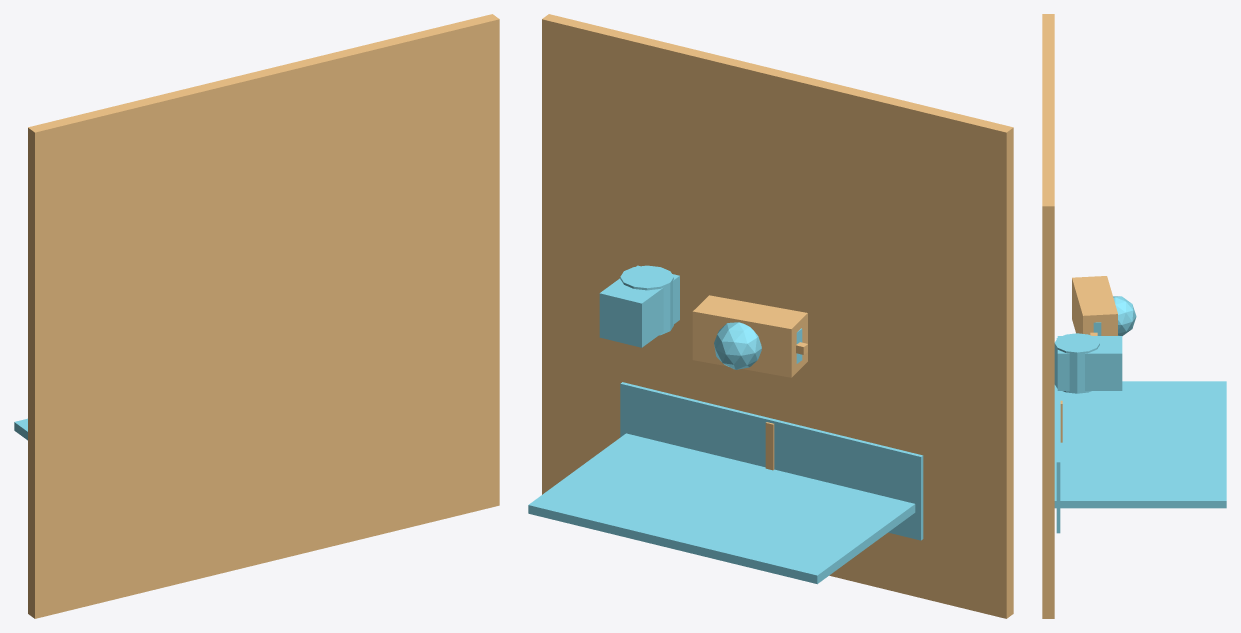
Rendered from rally-legends-kit.glb.
3 views of the same model, side by side, from view 1: azimuth 30°, elevation 25°; view 2: azimuth 150°, elevation 25°; view 3: azimuth 270°, elevation 25° (orthographic). The views are drawn at different scales.
Parts seen in each view (by area): view 1: ENVIRONMENT_GROUND; view 2: ENVIRONMENT_GROUND, ENVIRONMENT_GATE, PROFILE_ENVIRONMENT_DETAIL, PLAYER_BODY, PROFILE_OBSTACLE_DETAIL, PLAYER_CORE, OBSTACLE; view 3: ENVIRONMENT_GATE, ENVIRONMENT_GROUND, PROFILE_OBSTACLE_DETAIL, PLAYER_BODY, OBSTACLE, PROFILE_ENVIRONMENT_DETAIL, PLAYER_CORE.
Part boxes in pixels (bbox=[...]): ENVIRONMENT_GROUND: bbox=[28, 14, 499, 618]; ENVIRONMENT_GROUND: bbox=[542, 14, 1013, 618]; ENVIRONMENT_GATE: bbox=[528, 433, 915, 584]; PROFILE_ENVIRONMENT_DETAIL: bbox=[620, 382, 923, 540]; PLAYER_BODY: bbox=[692, 295, 807, 377]; PROFILE_OBSTACLE_DETAIL: bbox=[599, 265, 679, 347]; PLAYER_CORE: bbox=[714, 322, 761, 369]; OBSTACLE: bbox=[620, 265, 673, 335]; ENVIRONMENT_GATE: bbox=[1054, 381, 1226, 508]; ENVIRONMENT_GROUND: bbox=[1042, 14, 1054, 618]; PROFILE_OBSTACLE_DETAIL: bbox=[1057, 336, 1122, 390]; PLAYER_BODY: bbox=[1072, 276, 1117, 335]; OBSTACLE: bbox=[1054, 333, 1099, 393]; PROFILE_ENVIRONMENT_DETAIL: bbox=[1056, 338, 1060, 533]; PLAYER_CORE: bbox=[1113, 296, 1136, 335].
Size of what is drawn, in the model's own units: 9 by 9 by 3.64.
